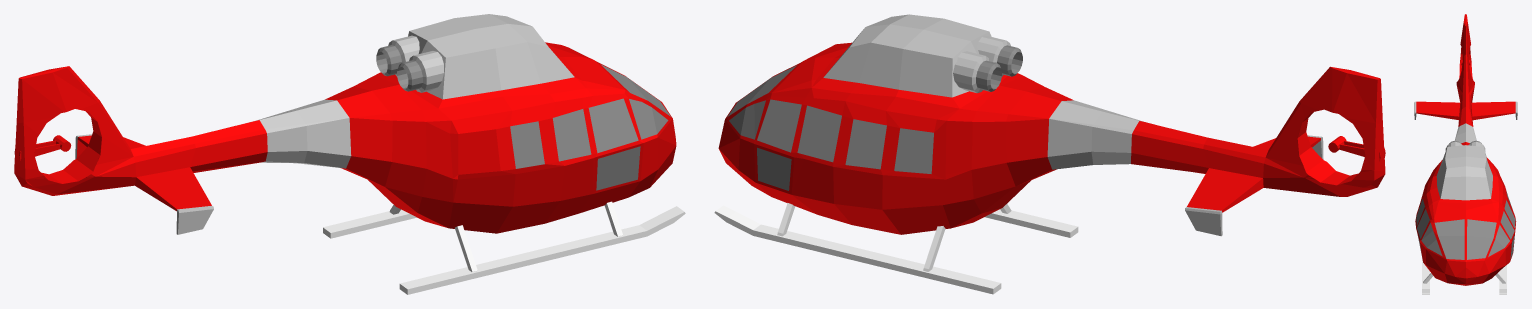
Rendered from HelicopterBase.obj.
3 views of the same model, side by side, from view 1: azimuth 30°, elevation 25°; view 2: azimuth 150°, elevation 25°; view 3: azimuth 270°, elevation 25° (orthographic). The views are drawn at different scales.
Parts seen in each view (by area): view 1: Copter, Legs, Cylinder, Tail:part; view 2: Copter, Legs, Cylinder, Tail:part; view 3: Copter, Legs, Cylinder.
Boxes of the visible parts, box(x1,y1,x2,y2) form: Copter: box(14, 14, 676, 234); Legs: box(323, 201, 685, 294); Cylinder: box(41, 109, 101, 183); Tail:part: box(14, 135, 71, 160); Copter: box(718, 14, 1385, 236); Legs: box(714, 203, 1078, 294); Cylinder: box(1297, 110, 1357, 185); Tail:part: box(1328, 136, 1385, 161); Copter: box(1414, 14, 1517, 285); Legs: box(1422, 258, 1506, 294); Cylinder: box(1459, 47, 1472, 79).
Size of the model in its own units: 5.72 by 2.25 by 1.56.
